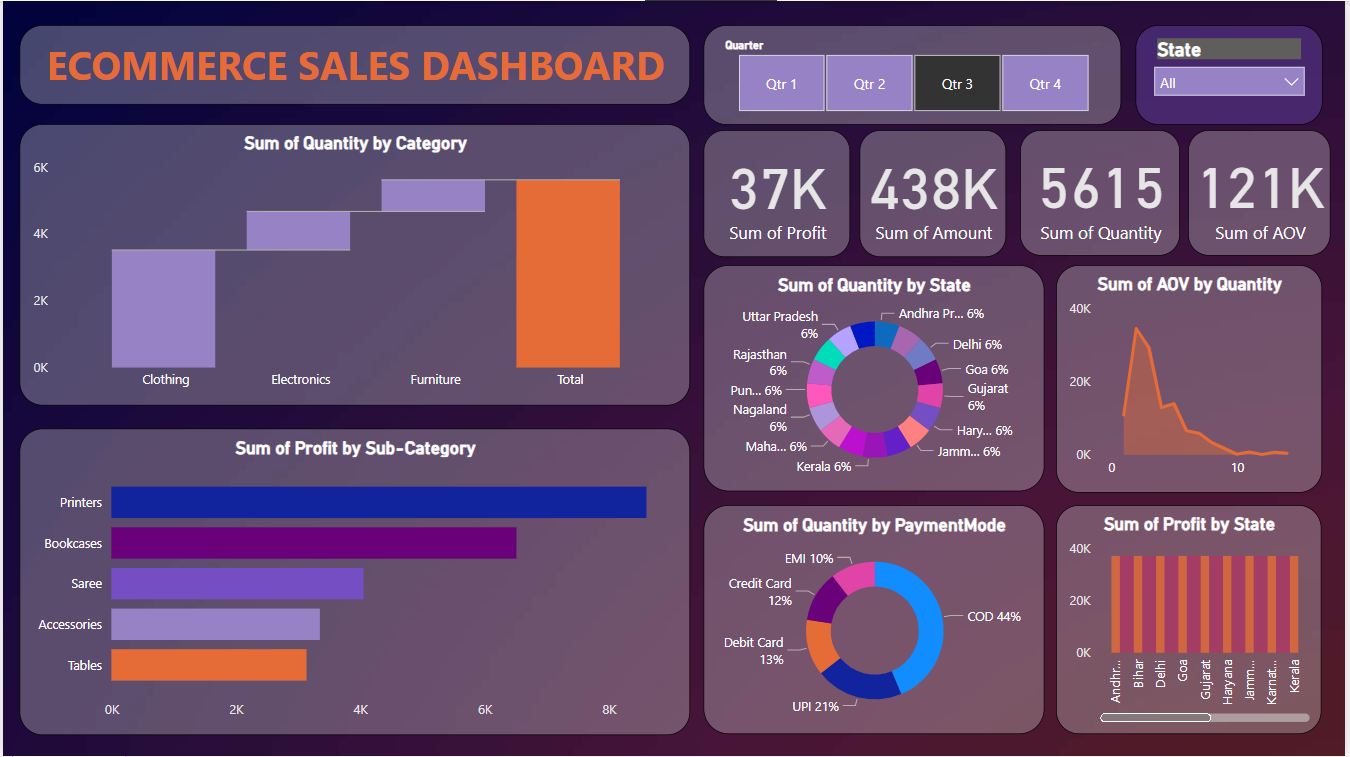

Layout of this report page (visuals, bound fields, positions):
{"tool":"powerbi","page":{"name":"Page 1","canvas":[1280,720],"ordinal":0},"visuals":[{"type":"textbox","box":[16.2,22.5,640,76.2],"z":0},{"type":"waterfallChart","fields":{"Category":["Details.Category"],"Y":["Sum(Details.Quantity)"]},"box":[16.2,117.5,640,268.8],"z":1},{"type":"barChart","fields":{"Category":["Details.Sub-Category"],"Y":["Sum(Details.Profit)"]},"box":[16.2,407.5,640,292.5],"z":2},{"type":"donutChart","fields":{"Category":["Orders.State"],"Y":["Sum(Details.Quantity)"]},"box":[668.8,252.5,325,216.2],"z":3},{"type":"donutChart","fields":{"Y":["Sum(Details.Quantity)"],"Category":["Details.PaymentMode"]},"box":[668.3,481.7,325,218.3],"z":4},{"type":"card","fields":{"Values":["Sum(Details.Profit)"]},"box":[668.8,123.8,140,121.2],"z":5},{"type":"card","fields":{"Values":["Sum(Details.Amount)"]},"box":[817.5,123.8,140,121.2],"z":6},{"type":"card","fields":{"Values":["Sum(Details.Quantity)"]},"box":[970,123.8,152.5,120],"z":7},{"type":"card","fields":{"Values":["Sum(Details.AOV)"]},"box":[1131.2,123.8,136.2,120],"z":8},{"type":"stackedAreaChart","fields":{"Y":["Sum(Details.AOV)"],"Category":["Details.Quantity"]},"box":[1005,252.5,253.8,217.5],"z":9},{"type":"ribbonChart","fields":{"Y":["Sum(Details.Profit)"],"Category":["Orders.State"]},"box":[1005,481.7,253.3,218.3],"z":10},{"type":"slicer","fields":{"Values":["Orders.Order Date.Variation.Date Hierarchy.Quarter"]},"box":[668.8,22.5,398.8,95],"z":11},{"type":"slicer","fields":{"Values":["Orders.State"]},"box":[1080,22.5,178.8,95],"z":12}]}

Visuals, with their boxes in screenshot pixels (x1, y1, x2, y2), scaled from the page's 1280x720 canvas onto the 1350x757 screenshot:
textbox: <bbox>17, 24, 692, 104</bbox>
waterfallChart - Details.Category x Sum(Details.Quantity): <bbox>17, 124, 692, 406</bbox>
barChart - Details.Sub-Category x Sum(Details.Profit): <bbox>17, 428, 692, 736</bbox>
donutChart - Orders.State x Sum(Details.Quantity): <bbox>705, 265, 1048, 493</bbox>
donutChart - Sum(Details.Quantity) x Details.PaymentMode: <bbox>705, 506, 1048, 736</bbox>
card - Sum(Details.Profit): <bbox>705, 130, 853, 258</bbox>
card - Sum(Details.Amount): <bbox>862, 130, 1010, 258</bbox>
card - Sum(Details.Quantity): <bbox>1023, 130, 1184, 256</bbox>
card - Sum(Details.AOV): <bbox>1193, 130, 1337, 256</bbox>
stackedAreaChart - Sum(Details.AOV) x Details.Quantity: <bbox>1060, 265, 1328, 494</bbox>
ribbonChart - Sum(Details.Profit) x Orders.State: <bbox>1060, 506, 1327, 736</bbox>
slicer - Orders.Order Date.Variation.Date Hierarchy.Quarter: <bbox>705, 24, 1126, 124</bbox>
slicer - Orders.State: <bbox>1139, 24, 1328, 124</bbox>
